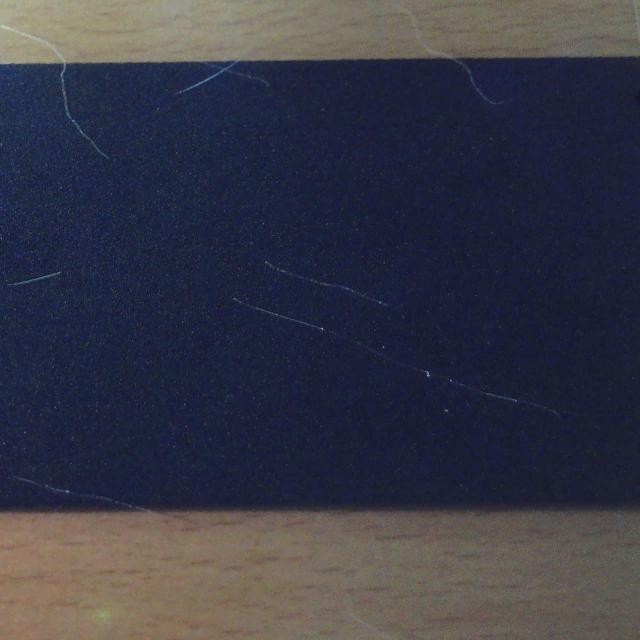defect: (230, 297, 560, 418), (262, 259, 388, 308), (56, 65, 110, 159), (16, 474, 146, 509), (175, 61, 269, 96), (453, 61, 505, 106), (4, 270, 66, 286)
